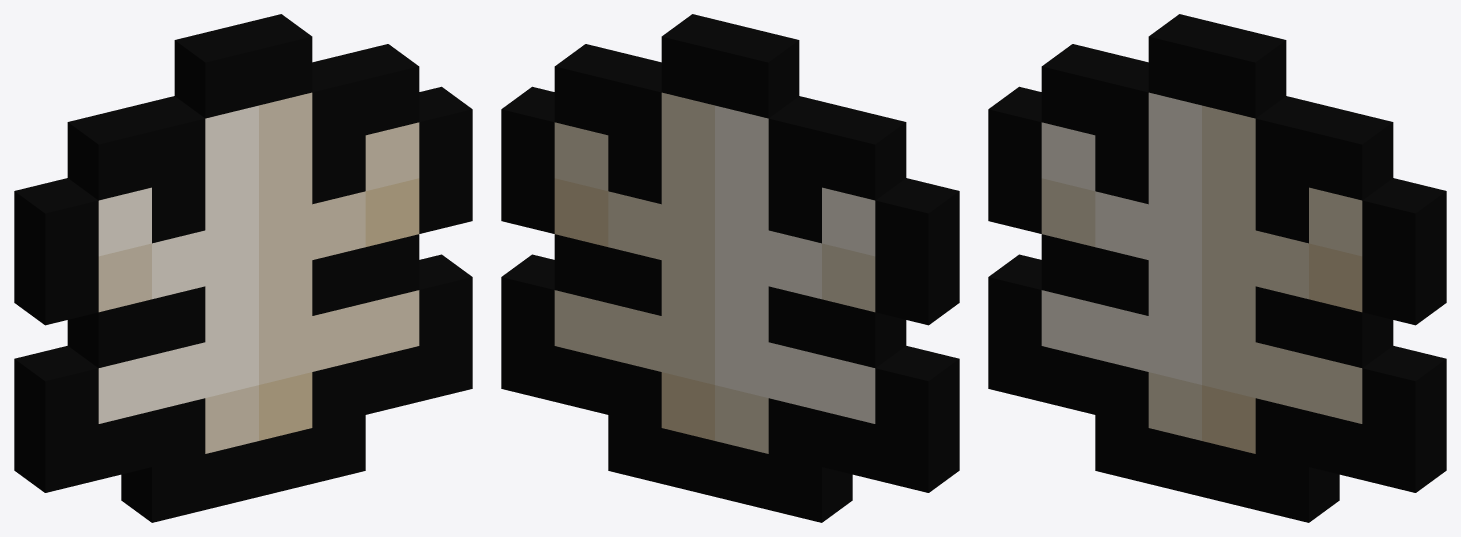
The model's file is Bone Antlers.glb.
The picture shows the model from 3 angles, left to right: view 1: azimuth 30°, elevation 25°; view 2: azimuth 150°, elevation 25°; view 3: azimuth 330°, elevation 25°; orthographic projection.
Parts seen in each view (by area): view 1: generated(Clone); view 2: generated(Clone); view 3: generated(Clone).
Part boxes in pixels (bbox=[...]): generated(Clone): bbox=[14, 14, 472, 522]; generated(Clone): bbox=[501, 14, 959, 522]; generated(Clone): bbox=[988, 14, 1446, 522].
Bounding box in the file's own units: 8 × 8 × 1.
1 material, 1 textured.
